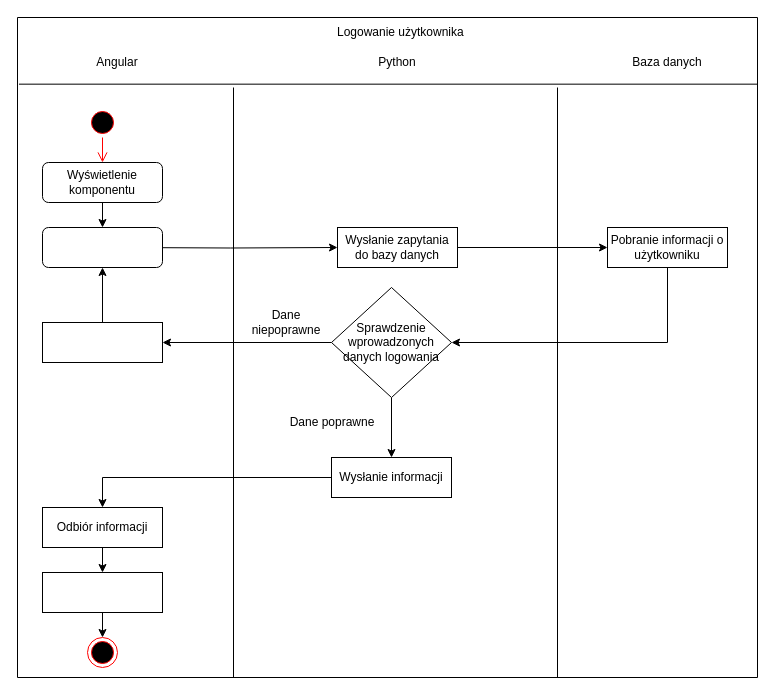
This 776x696 diagram has some shape labels left out. Each missing label, with the centre of its shape:
"Wprowadzenie danych logowania" belongs at (x=102, y=247).
"Wypisanie błędu logowania" belongs at (x=102, y=342).
"Zapis danych w sesji okna" belongs at (x=102, y=592).
